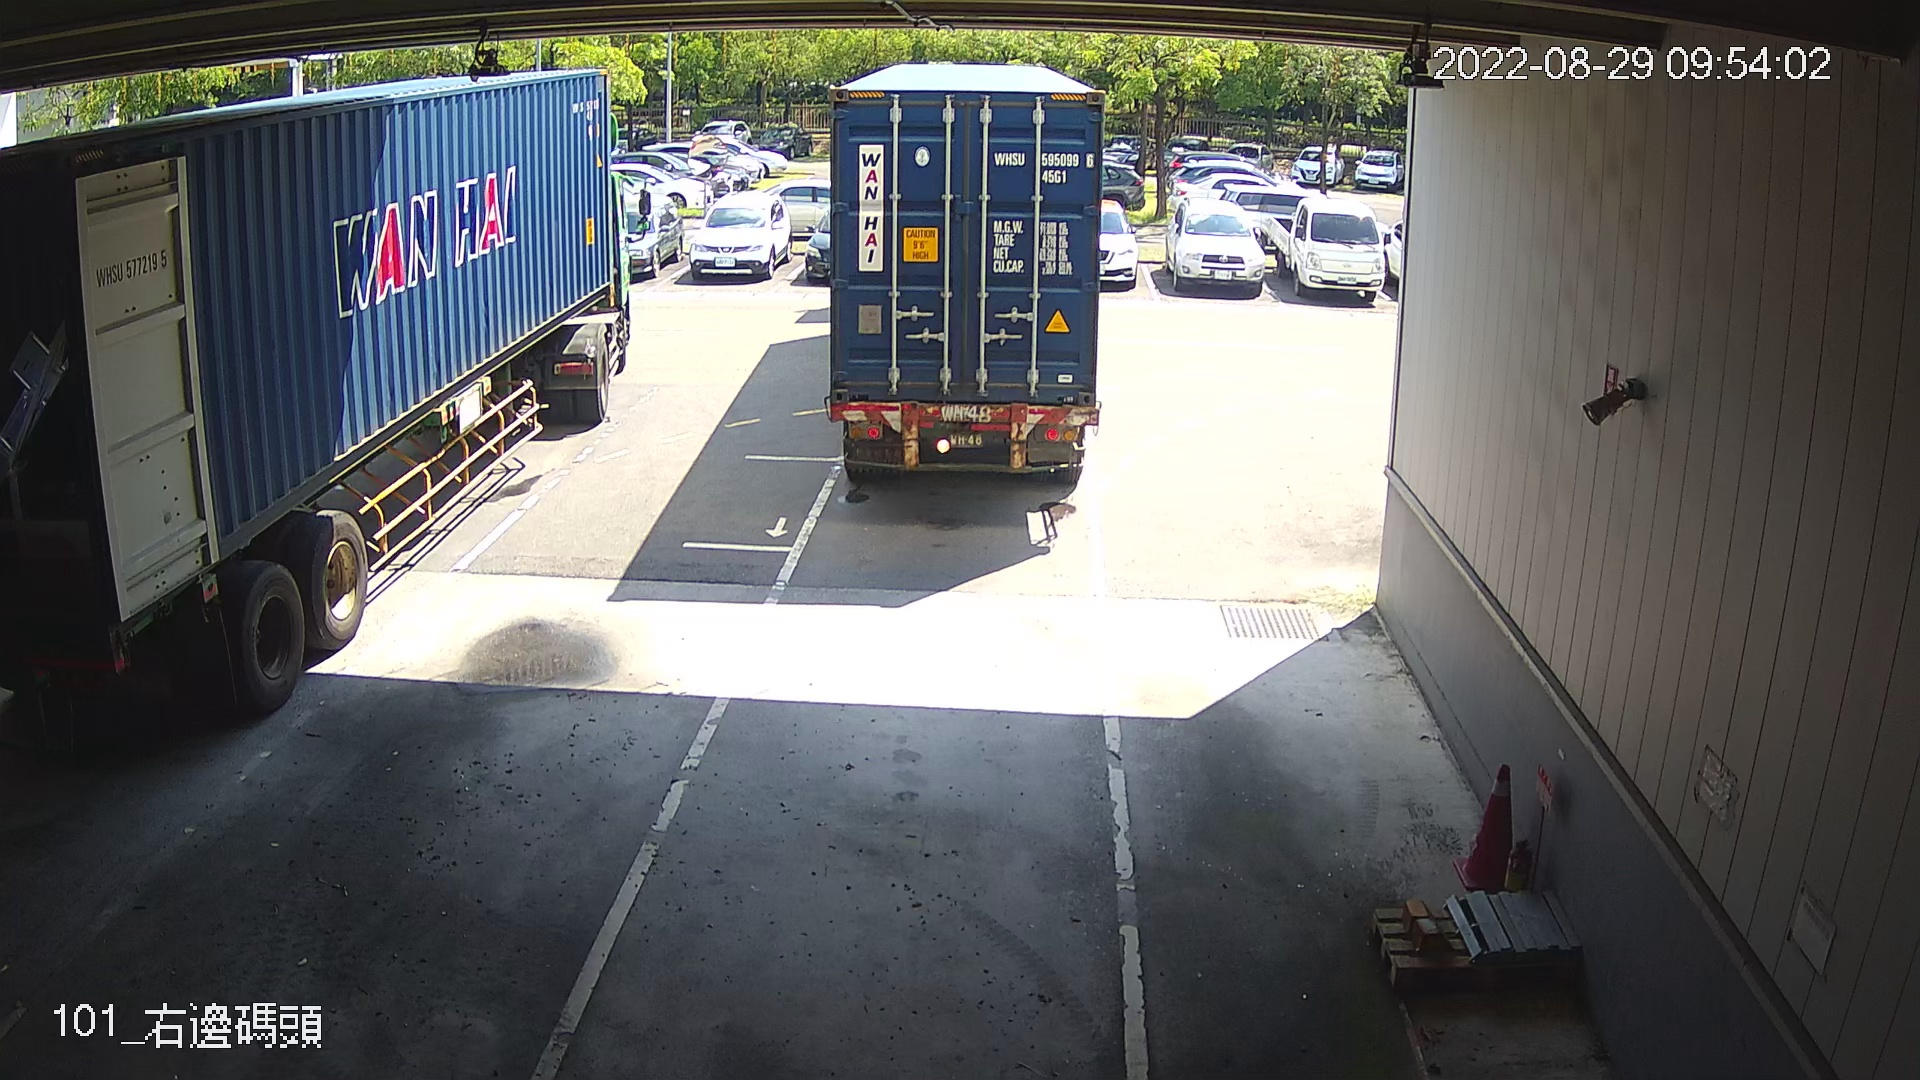container: (989, 142, 1098, 190)
